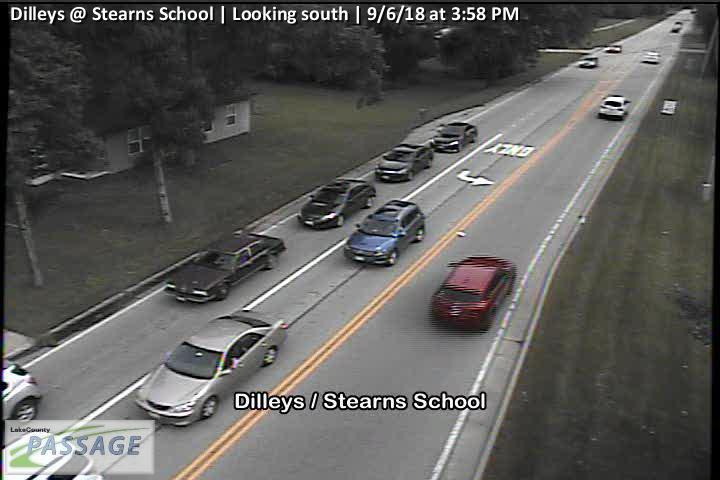SUV: (430, 256, 517, 330), (343, 201, 425, 265), (599, 94, 631, 120)
Sedan: (137, 310, 290, 426), (297, 178, 376, 229), (375, 142, 433, 183), (432, 122, 478, 155), (641, 51, 660, 64), (580, 56, 597, 68), (606, 44, 622, 53)
Truck: (165, 230, 286, 303)
